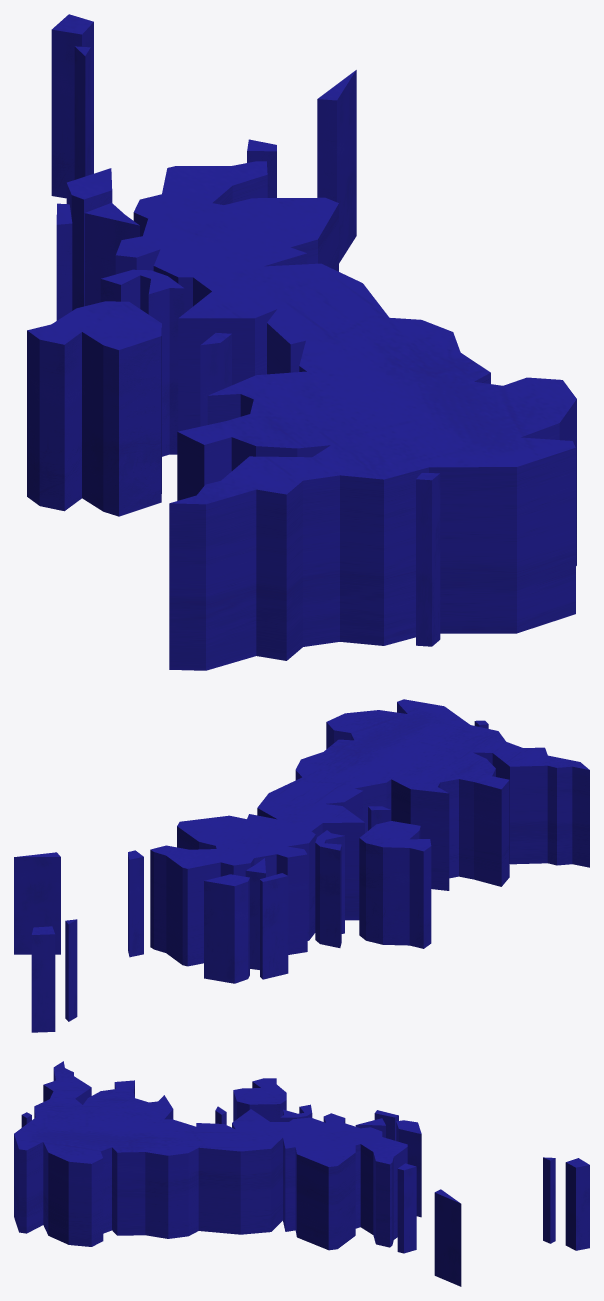
The model's file is greatbritain.DAE.
3 renders of one model, top to bottom at view 1: azimuth 30°, elevation 25°; view 2: azimuth 150°, elevation 25°; view 3: azimuth 270°, elevation 25°, orthographic. The views are drawn at different scales.
Parts seen in each view (by area): view 1: GreatBritain; view 2: GreatBritain; view 3: GreatBritain.
Boxes of the visible parts, bbox=[...] form: GreatBritain: bbox=[27, 14, 576, 670]; GreatBritain: bbox=[14, 699, 589, 1032]; GreatBritain: bbox=[14, 1061, 589, 1286].
Bounding box in the file's own units: 91.93 × 157 × 25.
Materials: 1 (1 with a texture image).
